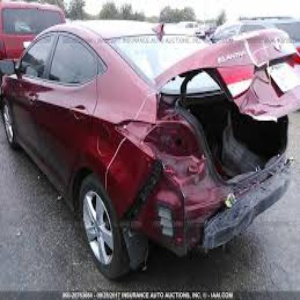bumper: (151, 175, 296, 259)
